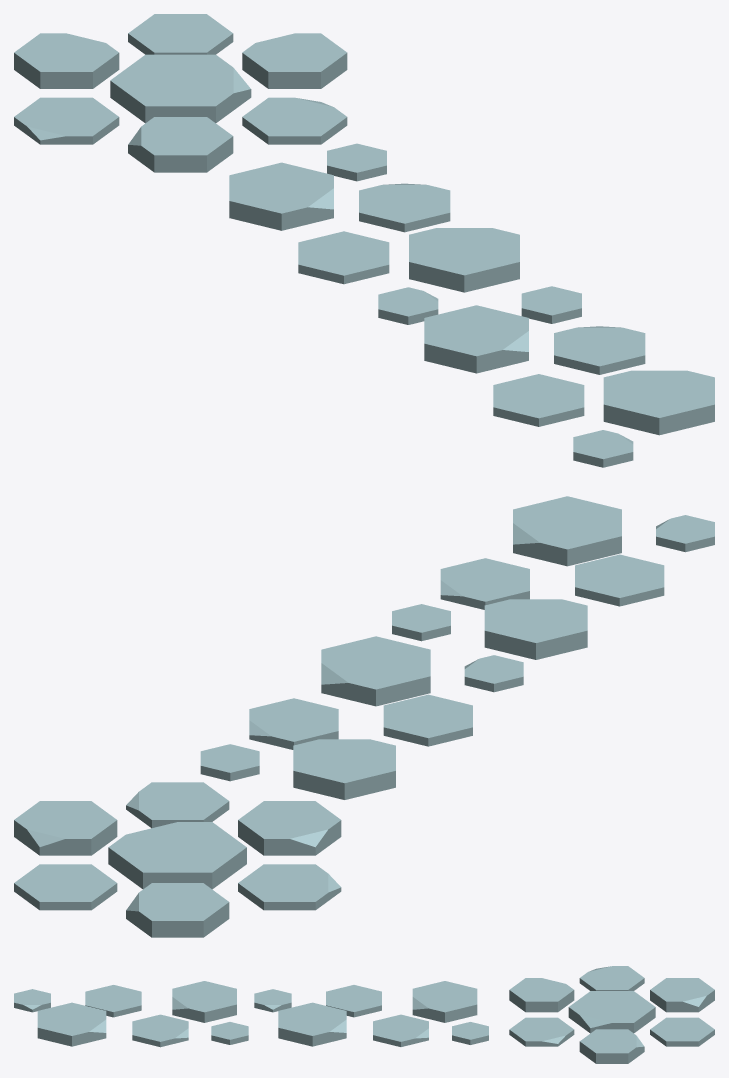
Rendered from PicaZoo-v1-walkable-ground.fbx.
The picture shows the model from 3 angles, top to bottom: view 1: azimuth 30°, elevation 25°; view 2: azimuth 150°, elevation 25°; view 3: azimuth 270°, elevation 25°; orthographic projection. The views are drawn at different scales.
Visible parts, largest first — view 1: mergedBlocks; view 2: mergedBlocks; view 3: mergedBlocks.
Boxes of the visible parts, bbox=[...] form: mergedBlocks: bbox=[14, 14, 714, 467]; mergedBlocks: bbox=[14, 496, 714, 937]; mergedBlocks: bbox=[14, 966, 714, 1063].
Size of the model in its own units: 37.29 by 2 by 120.
